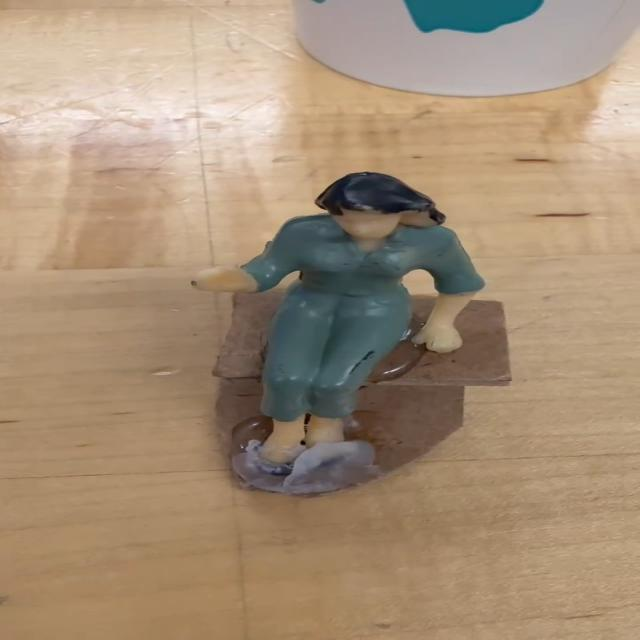Authorized: (137, 151, 556, 527)
